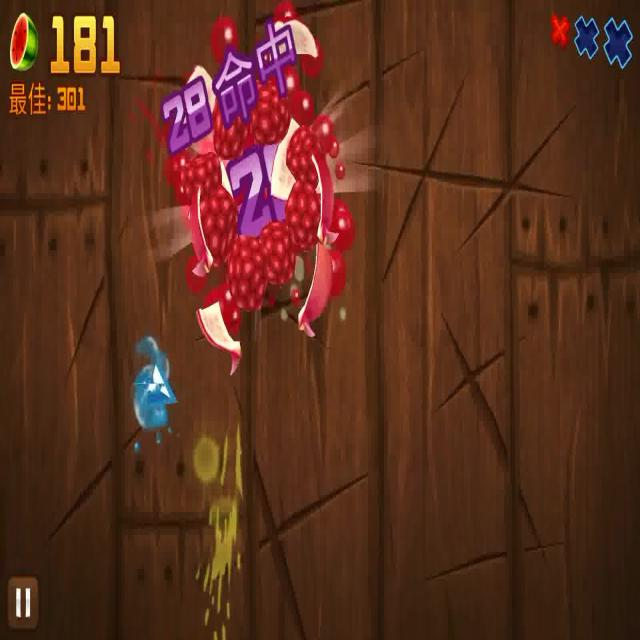fruit: (232, 228, 269, 310)
